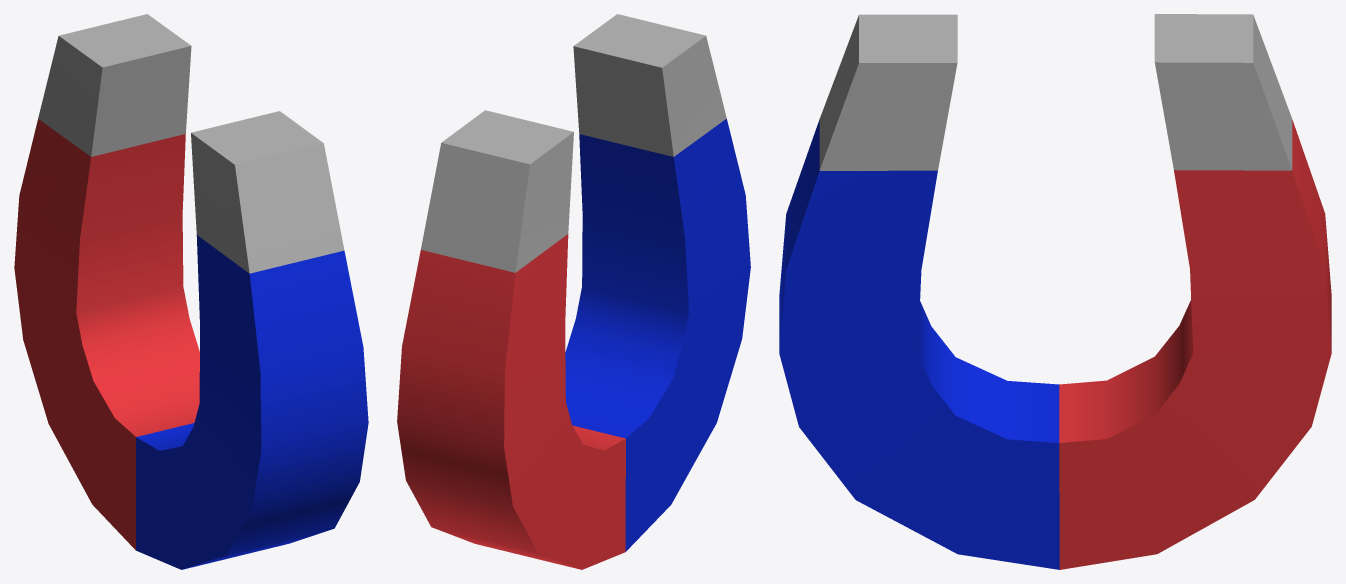
File: Mgnet.fbx
3 renders of one model, left to right at view 1: azimuth 30°, elevation 25°; view 2: azimuth 150°, elevation 25°; view 3: azimuth 270°, elevation 25°, orthographic. The views are drawn at different scales.
Visible parts, largest first — view 1: pCube1; view 2: pCube1; view 3: pCube1.
Part boxes in pixels (left/top/right/bottom): pCube1: left=14, top=14, right=368, bottom=569; pCube1: left=397, top=14, right=750, bottom=569; pCube1: left=779, top=14, right=1331, bottom=569.
Bounding box in the file's own units: 0.1964 × 0.7863 × 0.7832.
